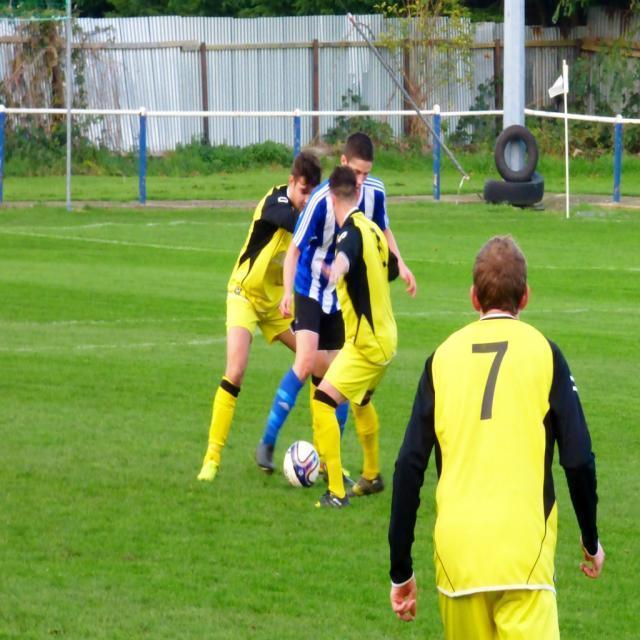ball: (283, 439, 321, 490)
